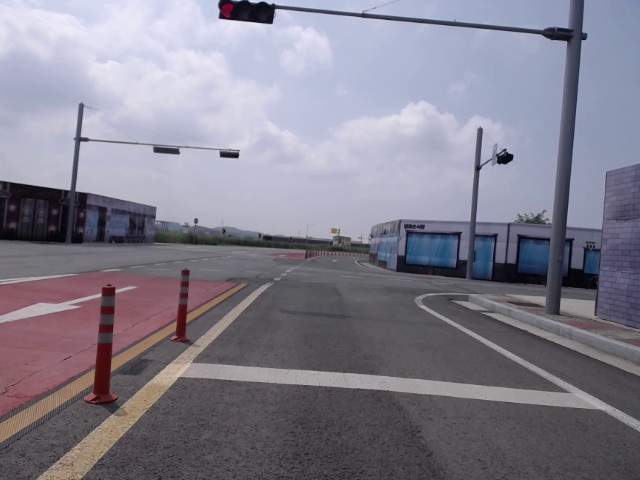red_3: (217, 1, 276, 22)
